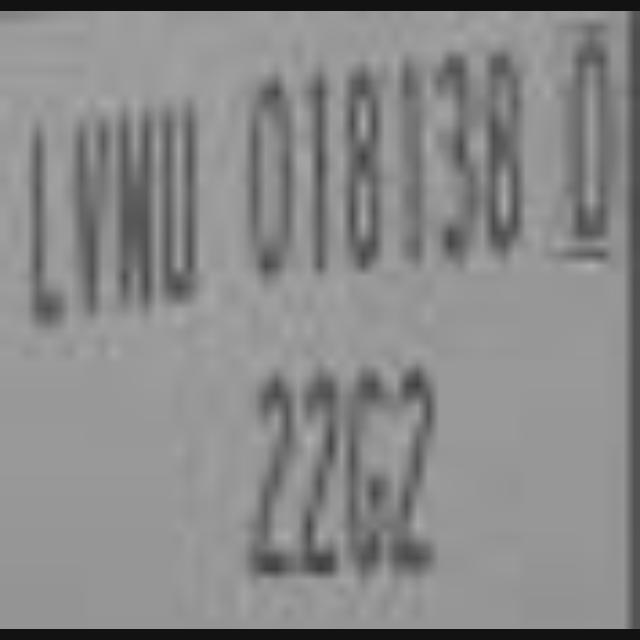0: (552, 11, 620, 243), (242, 67, 300, 293)
1: (393, 52, 433, 274), (300, 58, 336, 288)
2: (243, 366, 300, 582), (394, 353, 442, 577), (303, 368, 345, 578)
3: (436, 46, 482, 278)
6: (345, 359, 395, 581)
8: (341, 58, 389, 276), (484, 44, 526, 274)
l: (18, 114, 70, 336)
m: (115, 97, 158, 331)
u: (162, 85, 202, 318)
v: (68, 107, 114, 326)
